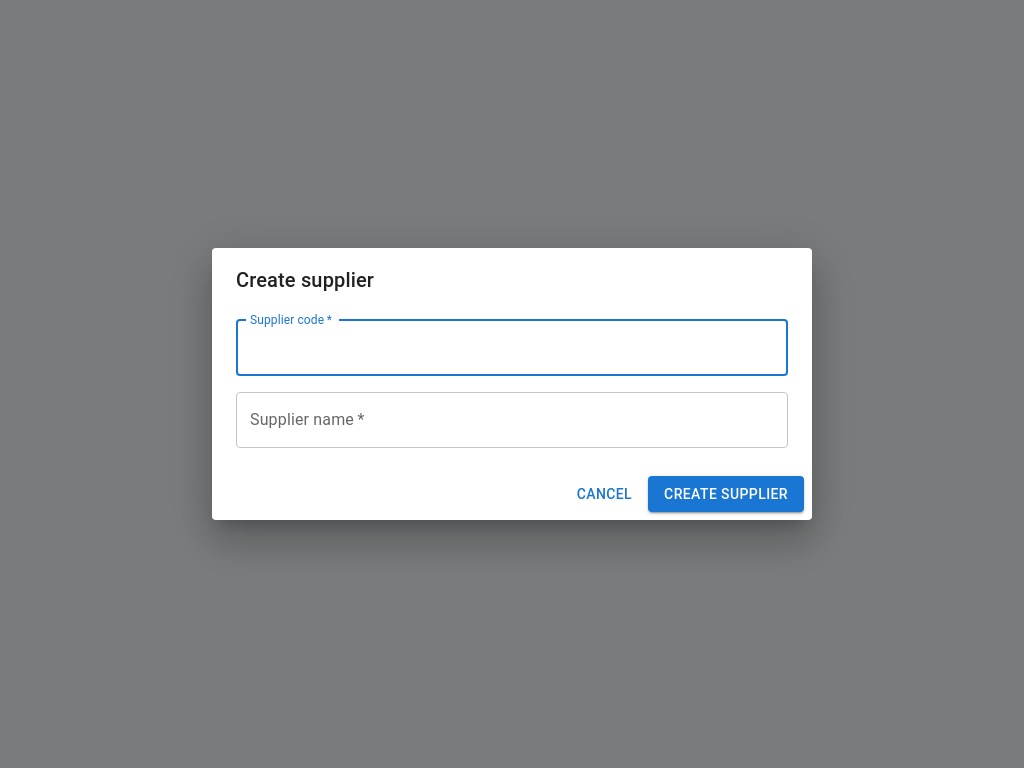
Test case: CreateSupplierDialog › validates required fields
The image size is (1024, 768).
Click the button "Create supplier" at (726,494), box [648, 476, 804, 512]
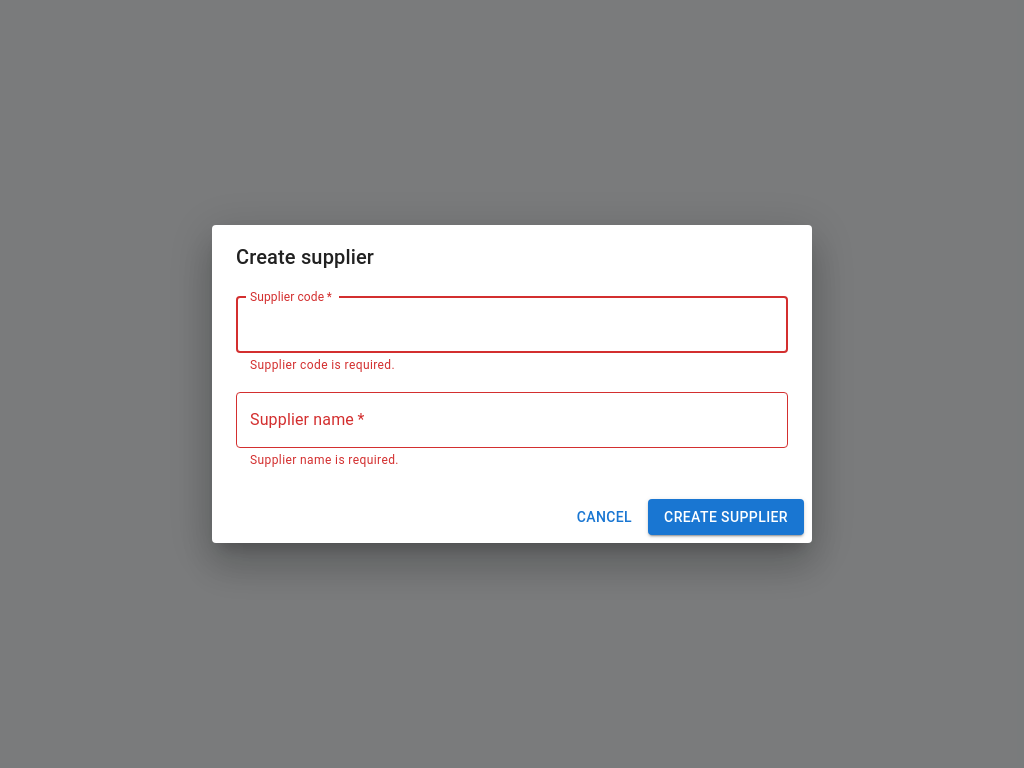
Now the text "Supplier code is required." is shown, box [250, 358, 395, 372]
Now the text "Supplier name is required." is shown, box [250, 453, 399, 467]
